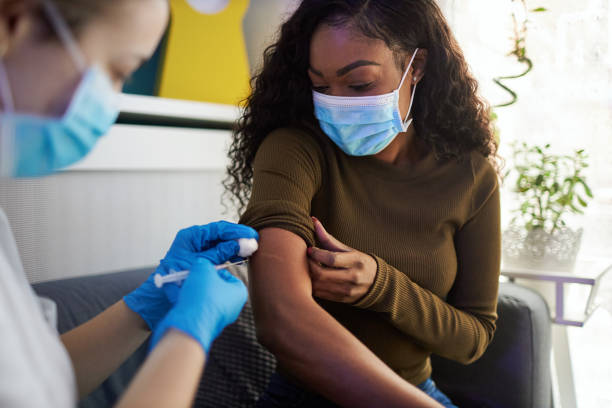with mask: (1, 1, 169, 191), (309, 13, 423, 153)
